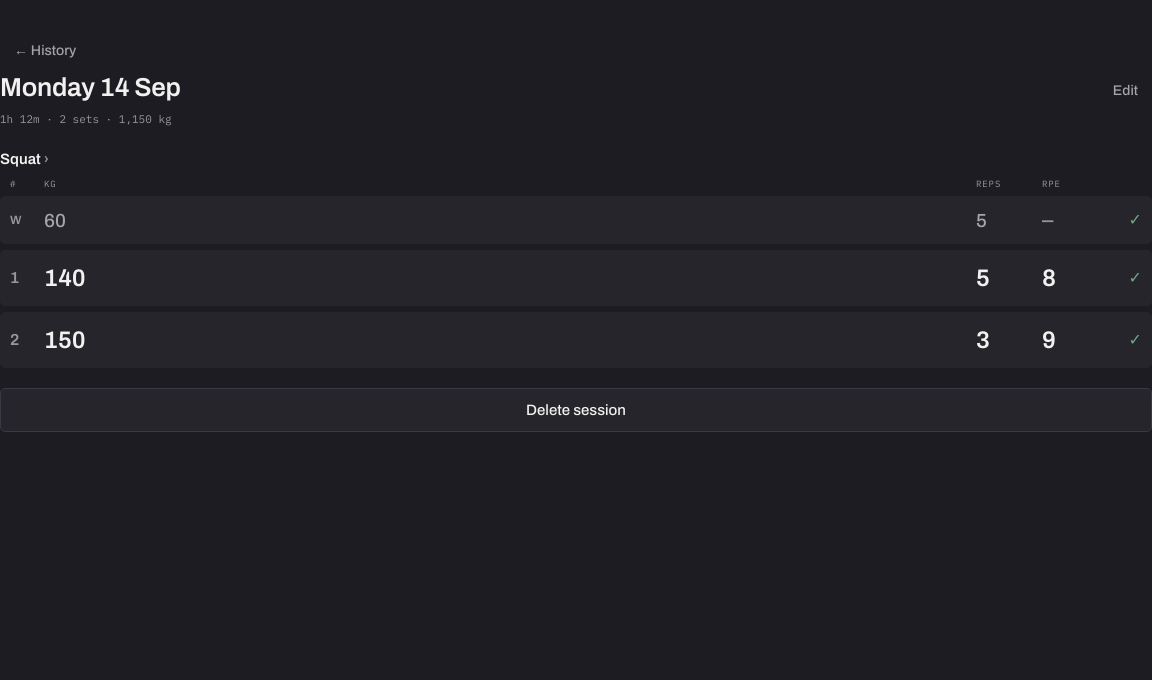
Test case: correcting a set › opens the same row the logger uses, ready to edit
This screenshot has width=1152, height=680.
What coordinates should you click on to do the following:
click the button named "Edit set 1 of Squat"
I would click on:
 (576, 278)
Its box is [0, 250, 1151, 306].
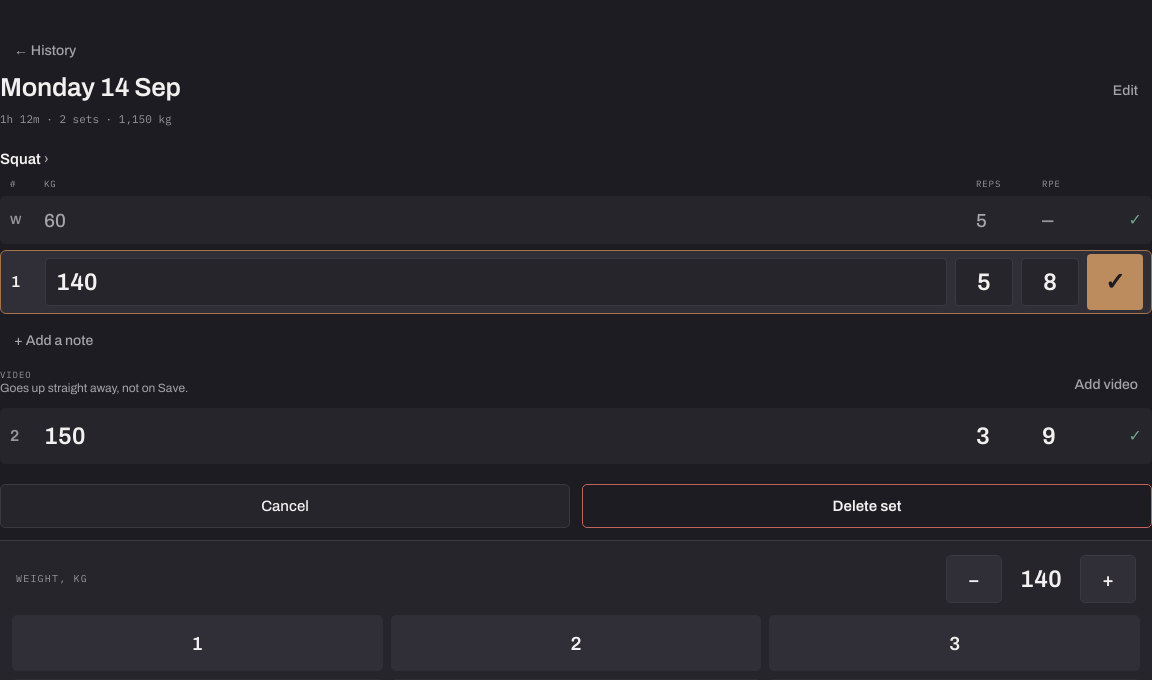
Now the button "1" is shown, box [12, 615, 383, 671]
